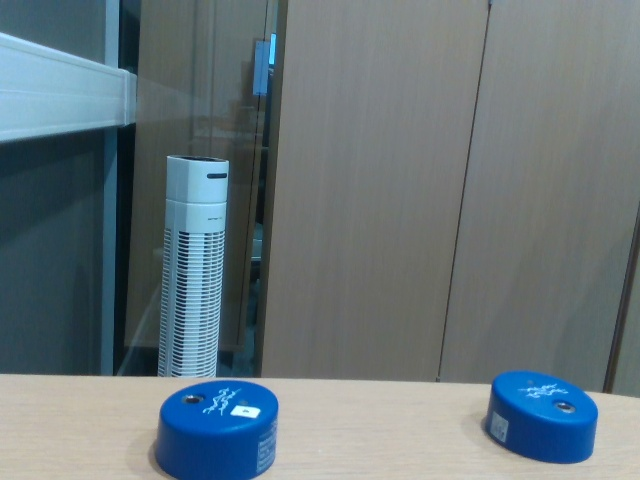alfa: (155, 376, 282, 480), (487, 366, 600, 468)
